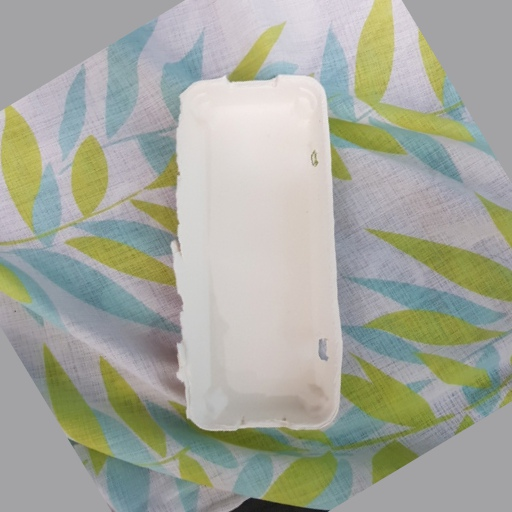Paper_0: (167, 72, 354, 436)
